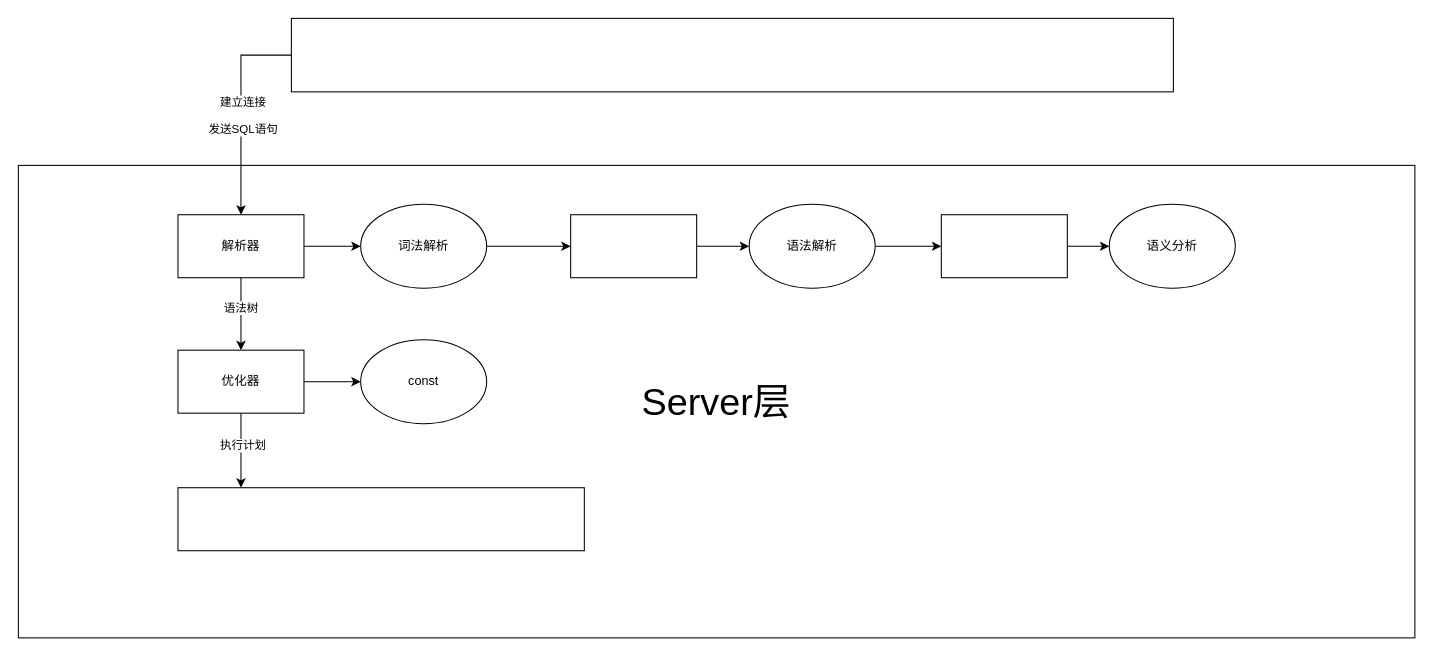
The diagram is 1433 pixels wide and 656 high, and some of its shapes have lost their labels. The centre of each missing label's shape, as x and y in pixels:
client: (731,54)
执行器: (380,519)
抽象语法树: (1003,246)
词法单元: (633,246)
